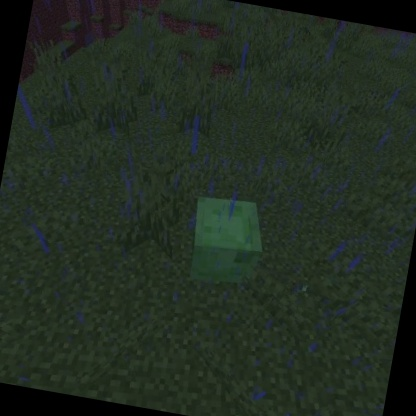slime: (179, 188, 275, 296)
